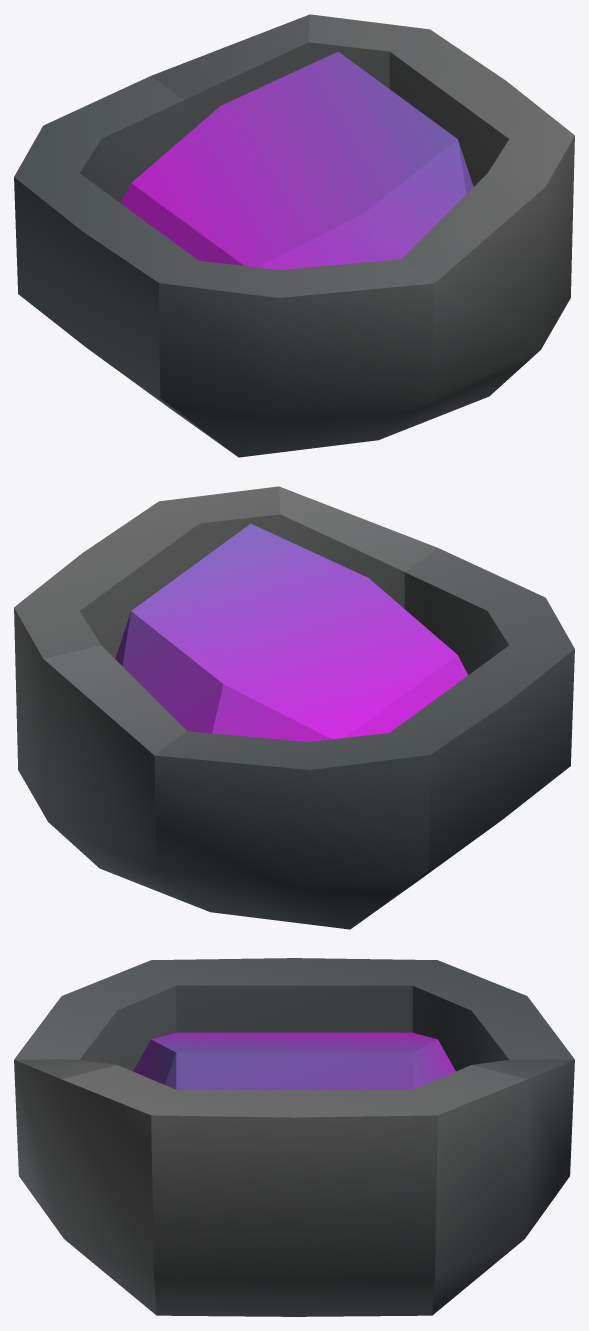
File: Nekoite.fbx
3 views of the same model, one above another, from view 1: azimuth 30°, elevation 25°; view 2: azimuth 150°, elevation 25°; view 3: azimuth 270°, elevation 25° (orthographic).
Parts seen in each view (by area): view 1: NEKOITE.002; view 2: NEKOITE.002; view 3: NEKOITE.002.
Part boxes in pixels (left/top/right/bottom): NEKOITE.002: left=14, top=14, right=574, bottom=457; NEKOITE.002: left=14, top=486, right=574, bottom=929; NEKOITE.002: left=14, top=958, right=574, bottom=1316.
Size of the model in its own units: 148 by 86.3 by 172.
Materials: 2 (2 with a texture image).
